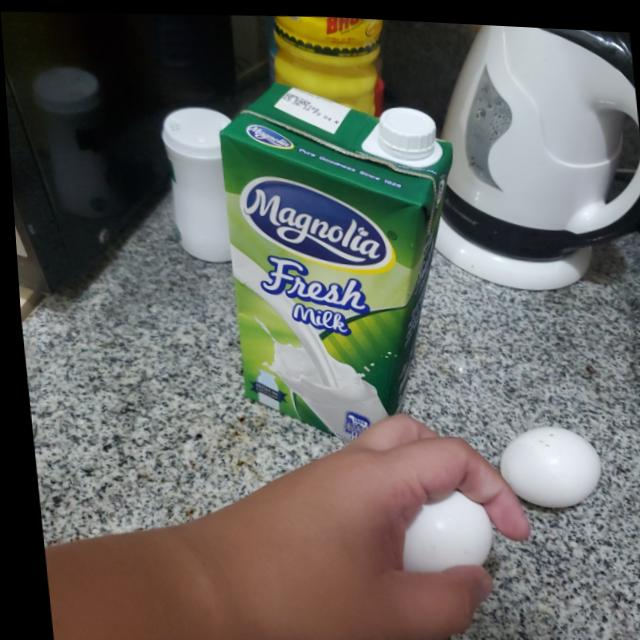egg: (382, 479, 488, 579), (486, 418, 597, 506)
milk: (210, 71, 479, 447)
